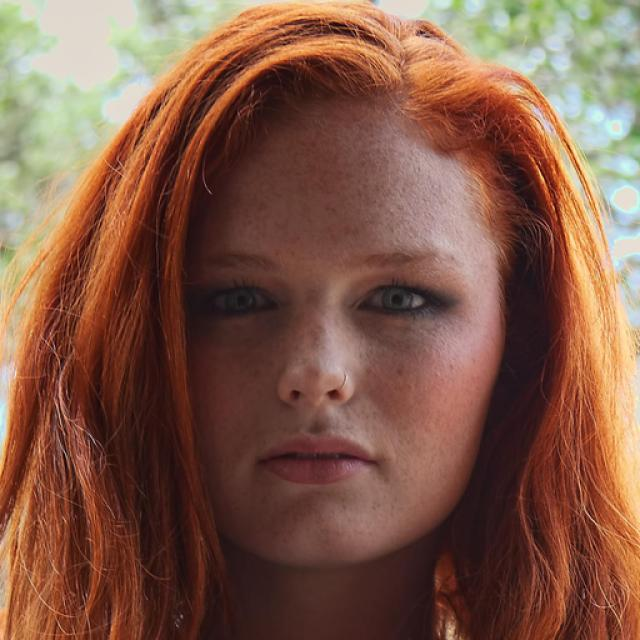Pigmentation: (288, 283, 355, 377), (208, 311, 290, 381)
